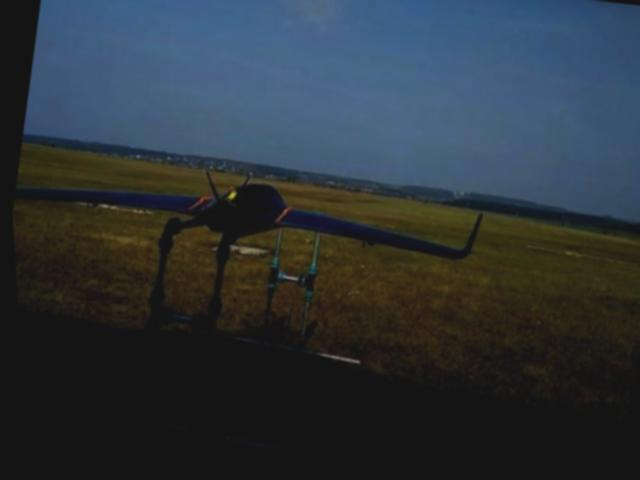iha: (7, 125, 483, 298)
